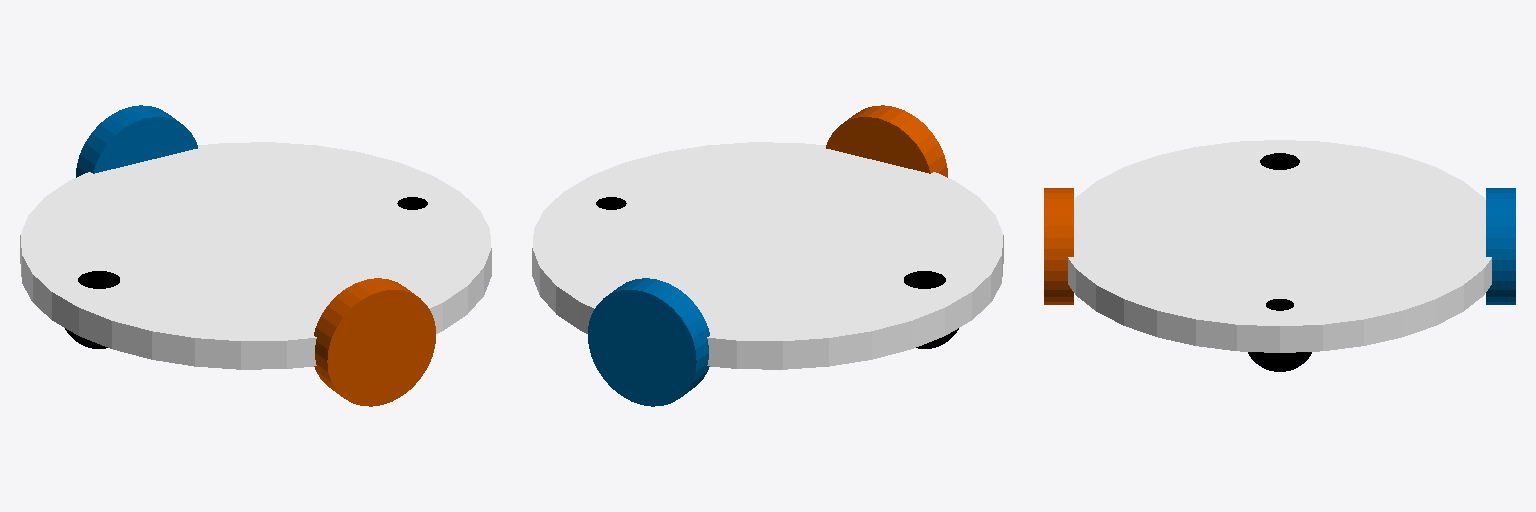
URDF robot description (differential_wheeled_robot):
<?xml version="1.0" ?>
<!-- =================================================================================== -->
<!-- |    This document was autogenerated by xacro from diff_wheeled_robot.xacro       | -->
<!-- |    EDITING THIS FILE BY HAND IS NOT RECOMMENDED                                 | -->
<!-- =================================================================================== -->
<robot name="differential_wheeled_robot">
  <!-- in kg-->
  <!-- Defining the colors used in this robot -->
  <material name="Black">
    <color rgba="0.0 0.0 0.0 1.0"/>
  </material>
  <material name="Red">
    <color rgba="0.8 0.0 0.0 1.0"/>
  </material>
  <material name="White">
    <color rgba="1.0 1.0 1.0 1.0"/>
  </material>
  <material name="Blue">
    <color rgba="0.0 0.0 0.8 1.0"/>
  </material>
  <!-- in kg-->
  <!-- in kg-->
   --&gt; 
  <!-- BASE-FOOTPRINT -->
  <!-- base_footprint is a fictitious link(frame) that is on the ground right below base_link origin -->
  <link name="base_footprint">
    <inertial>
      <mass value="0.0001"/>
      <origin xyz="0 0 0"/>
      <inertia ixx="0.0001" ixy="0.0" ixz="0.0" iyy="0.0001" iyz="0.0" izz="0.0001"/>
    </inertial>
    <visual>
      <origin rpy="0 0 0" xyz="0 0 0"/>
      <geometry>
        <box size="0.001 0.001 0.001"/>
      </geometry>
    </visual>
  </link>
  <gazebo reference="base_footprint">
    <turnGravityOff>false</turnGravityOff>
  </gazebo>
  <joint name="base_footprint_joint" type="fixed">
    <origin rpy="0 0 0" xyz="0 0 0.04"/>
    <parent link="base_footprint"/>
    <child link="base_link"/>
  </joint>
  <link name="base_link">
    <inertial>
      <mass value="5.0"/>
      <origin xyz="0 0 0"/>
      <inertia ixx="0.0001" ixy="0.0" ixz="0.0" iyy="0.0001" iyz="0.0" izz="0.0001"/>
      <cylinder_inertia h="0.02" m="5.0" r="0.15"/>
    </inertial>
    <visual>
      <origin rpy="0 0 0" xyz="0 0 0"/>
      <geometry>
        <cylinder length="0.02" radius="0.15"/>
      </geometry>
      <material name="White"/>
    </visual>
    <collision>
      <origin rpy="0 0 0 " xyz="0 0 0"/>
      <geometry>
        <cylinder length="0.02" radius="0.15"/>
      </geometry>
    </collision>
  </link>
  <gazebo reference="base_link">
    <material>Gazebo/White</material>
    <turnGravityOff>false</turnGravityOff>
  </gazebo>
  <link name="caster_front_link">
    <visual>
      <origin rpy="1.5707963267948966 0 0" xyz="0 0.02 0"/>
      <geometry>
        <sphere radius="0.025"/>
      </geometry>
      <material name="Black"/>
    </visual>
    <collision>
      <geometry>
        <sphere radius="0.025"/>
      </geometry>
      <origin rpy="1.5707963267948966 0 0" xyz="0 0.02 0"/>
    </collision>
    <inertial>
      <mass value="0.5"/>
      <origin xyz="0 0 0"/>
      <inertia ixx="0.001" ixy="0.0" ixz="0.0" iyy="0.001" iyz="0.0" izz="0.001"/>
    </inertial>
  </link>
  <joint name="caster_front_joint" type="fixed">
    <parent link="base_link"/>
    <child link="caster_front_link"/>
    <origin rpy="-1.5707963267948966 0 0" xyz="0.115 0.0 0.007"/>
  </joint>
  <gazebo reference="caster_front_link">
    <turnGravityOff>false</turnGravityOff>
  </gazebo>
  <link name="caster_back_link">
    <visual>
      <origin rpy="1.5707963267948966 0 0" xyz="0.02 0.02 0 "/>
      <geometry>
        <sphere radius="0.025"/>
      </geometry>
      <material name="Black"/>
    </visual>
    <collision>
      <geometry>
        <sphere radius="0.025"/>
      </geometry>
      <origin rpy="1.5707963267948966 0 0" xyz="0 0.02 0 "/>
    </collision>
    <inertial>
      <mass value="0.5"/>
      <origin xyz="0 0 0"/>
      <inertia ixx="0.001" ixy="0.0" ixz="0.0" iyy="0.001" iyz="0.0" izz="0.001"/>
    </inertial>
  </link>
  <joint name="caster_back_joint" type="fixed">
    <parent link="base_link"/>
    <child link="caster_back_link"/>
    <origin rpy="-1.5707963267948966 0 0" xyz="-0.135 0.0 0.009"/>
  </joint>
  <gazebo reference="caster_back_link">
    <turnGravityOff>false</turnGravityOff>
  </gazebo>
  <!--fb : front, back ; lr: left, right -->
  <link name="front_right_wheel">
    <visual>
      <origin rpy="1.5707963267948966 0  0 " xyz="0 0 0"/>
      <geometry>
        <cylinder length="0.02" radius="0.04"/>
      </geometry>
      <material name="DarkGray"/>
    </visual>
    <collision>
      <origin rpy="1.5707963267948966 0 0 " xyz="0 0 0"/>
      <geometry>
        <cylinder length="0.02" radius="0.04"/>
      </geometry>
    </collision>
    <inertial>
      <mass value="2.5"/>
      <origin xyz="0 0 0"/>
      <cylinder_inertia h="0.02" m="2.5" r="0.04"/>
    </inertial>
  </link>
  <gazebo reference="front_right_wheel">
    <mu1 value="1.0"/>
    <mu2 value="1.0"/>
    <kp value="10000000.0"/>
    <kd value="1.0"/>
    <fdir1 value="1 0 0"/>
    <material>Gazebo/Grey</material>
    <turnGravityOff>false</turnGravityOff>
  </gazebo>
  <joint name="front_right_wheel_joint" type="continuous">
    <parent link="base_link"/>
    <child link="front_right_wheel"/>
    <origin rpy="0 0 0" xyz="0.0 0.15 0.0"/>
    <axis rpy="0 0 0" xyz="0 1 0"/>
    <limit effort="100" velocity="100"/>
    <joint_properties damping="0.0" friction="0.0"/>
  </joint>
  <!-- Transmission is important to link the joints and the controller -->
  <transmission name="front_right_wheel_joint_trans">
    <type>transmission_interface/SimpleTransmission</type>
    <joint name="front_right_wheel_joint"/>
    <actuator name="front_right_wheel_joint_motor">
      <hardwareInterface>EffortJointInterface</hardwareInterface>
      <mechanicalReduction>1</mechanicalReduction>
    </actuator>
  </transmission>
  <!--fb : front, back ; lr: left, right -->
  <link name="front_left_wheel">
    <visual>
      <origin rpy="1.5707963267948966 0  0 " xyz="0 0 0"/>
      <geometry>
        <cylinder length="0.02" radius="0.04"/>
      </geometry>
      <material name="DarkGray"/>
    </visual>
    <collision>
      <origin rpy="1.5707963267948966 0 0 " xyz="0 0 0"/>
      <geometry>
        <cylinder length="0.02" radius="0.04"/>
      </geometry>
    </collision>
    <inertial>
      <mass value="2.5"/>
      <origin xyz="0 0 0"/>
      <cylinder_inertia h="0.02" m="2.5" r="0.04"/>
    </inertial>
  </link>
  <gazebo reference="front_left_wheel">
    <mu1 value="1.0"/>
    <mu2 value="1.0"/>
    <kp value="10000000.0"/>
    <kd value="1.0"/>
    <fdir1 value="1 0 0"/>
    <material>Gazebo/Grey</material>
    <turnGravityOff>false</turnGravityOff>
  </gazebo>
  <joint name="front_left_wheel_joint" type="continuous">
    <parent link="base_link"/>
    <child link="front_left_wheel"/>
    <origin rpy="0 0 0" xyz="0.0 -0.15 0.0"/>
    <axis rpy="0 0 0" xyz="0 1 0"/>
    <limit effort="100" velocity="100"/>
    <joint_properties damping="0.0" friction="0.0"/>
  </joint>
  <!-- Transmission is important to link the joints and the controller -->
  <transmission name="front_left_wheel_joint_trans">
    <type>transmission_interface/SimpleTransmission</type>
    <joint name="front_left_wheel_joint"/>
    <actuator name="front_left_wheel_joint_motor">
      <hardwareInterface>EffortJointInterface</hardwareInterface>
      <mechanicalReduction>1</mechanicalReduction>
    </actuator>
  </transmission>
  <gazebo>
    <plugin filename="libgazebo_ros_diff_drive.so" name="differential_drive_controller">
      <legacyMode>true</legacyMode>
      <rosDebugLevel>Debug</rosDebugLevel>
      <publishWheelTF>false</publishWheelTF>
      <robotNamespace>/</robotNamespace>
      <publishTf>1</publishTf>
      <publishWheelJointState>false</publishWheelJointState>
      <alwaysOn>true</alwaysOn>
      <updateRate>100.0</updateRate>
      <leftJoint>front_left_wheel_joint</leftJoint>
      <rightJoint>front_right_wheel_joint</rightJoint>
      <wheelSeparation>0.3</wheelSeparation>
      <wheelDiameter>0.08</wheelDiameter>
      <broadcastTF>1</broadcastTF>
      <wheelTorque>30</wheelTorque>
      <wheelAcceleration>1.8</wheelAcceleration>
      <commandTopic>cmd_vel</commandTopic>
      <odometryFrame>odom</odometryFrame>
      <odometryTopic>odom</odometryTopic>
      <robotBaseFrame>base_footprint</robotBaseFrame>
    </plugin>
  </gazebo>
</robot>

--- Facts derived from the render (not from the file) ---
The picture shows the robot from 3 angles, left to right: view 1: azimuth 30°, elevation 25°; view 2: azimuth 150°, elevation 25°; view 3: azimuth 270°, elevation 25°; orthographic projection.
Robot: differential_wheeled_robot — 6 links, 5 joints (2 continuous, 3 fixed); root link base_footprint; default pose: all joints at 0.
Links seen in each view (by area): view 1: base_link, front_left_wheel, front_right_wheel, caster_back_link; view 2: base_link, front_right_wheel, front_left_wheel, caster_back_link; view 3: base_link, front_right_wheel, front_left_wheel, caster_front_link, caster_back_link.
Link boxes in pixels (box(x1,y1,x2,y2)): base_link: box(20, 142, 491, 369); front_left_wheel: box(314, 278, 435, 406); front_right_wheel: box(76, 105, 197, 177); caster_back_link: box(65, 271, 119, 348); base_link: box(532, 142, 1003, 369); front_right_wheel: box(588, 278, 709, 406); front_left_wheel: box(826, 105, 947, 177); caster_back_link: box(904, 271, 958, 348); base_link: box(1068, 140, 1491, 352); front_right_wheel: box(1486, 188, 1515, 304); front_left_wheel: box(1044, 188, 1073, 304); caster_front_link: box(1248, 299, 1311, 371); caster_back_link: box(1260, 153, 1299, 169).
Bounding box of the posed robot: 0.3 × 0.32 × 0.0805 m (x, y, z).
Geometry: primitives only (box / cylinder / sphere), no mesh files.